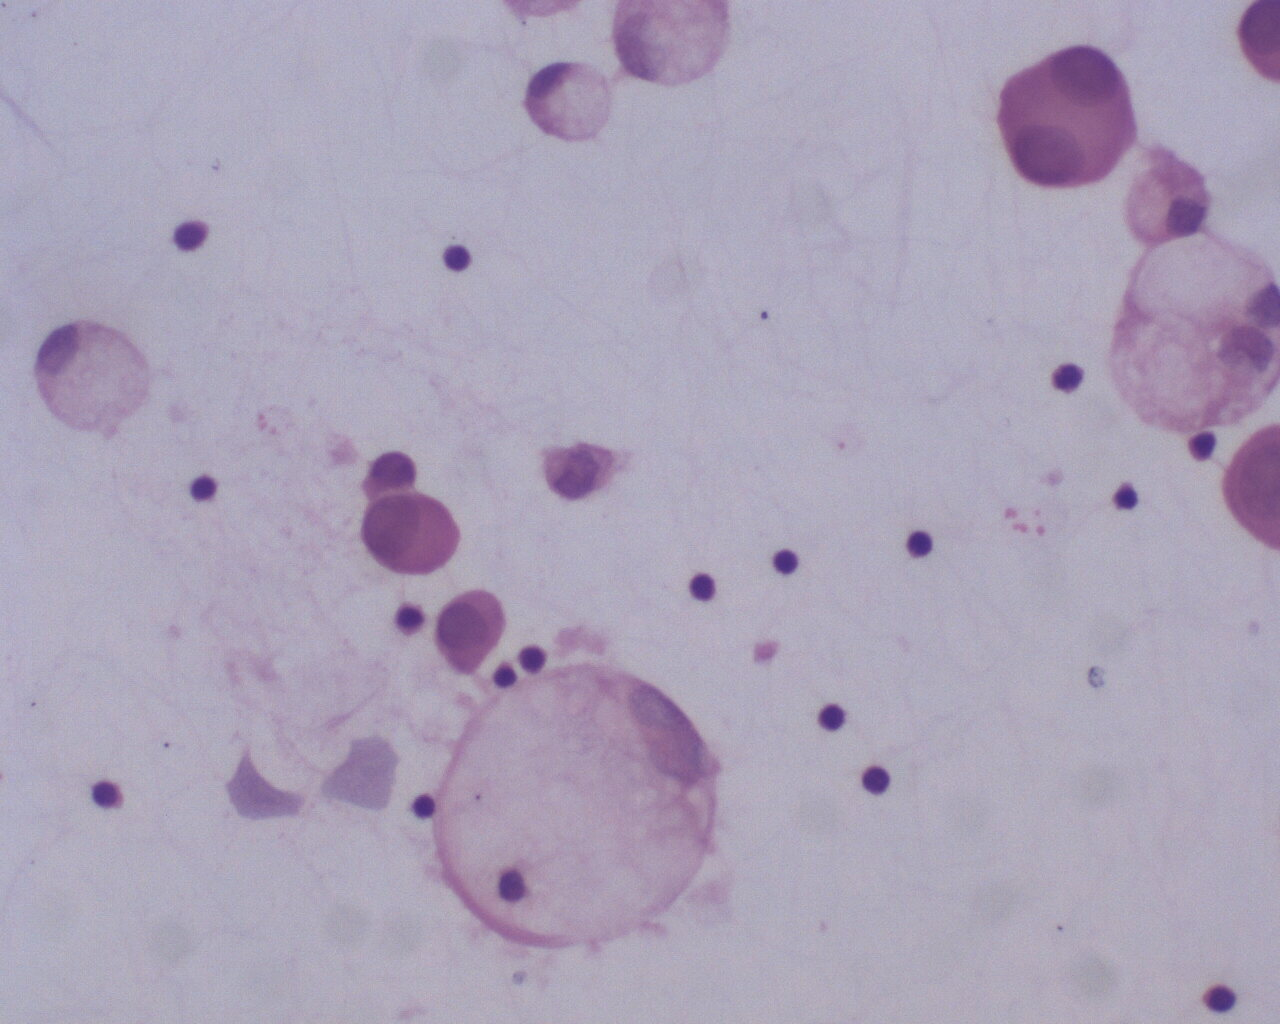ab: (1109, 226, 1280, 436), (985, 36, 1140, 193), (357, 485, 461, 574)
histo: (430, 664, 727, 955), (34, 318, 153, 439), (519, 54, 613, 147)
lymph: (437, 234, 478, 275), (766, 541, 806, 581), (861, 758, 897, 797), (686, 567, 720, 606), (905, 526, 938, 563)
